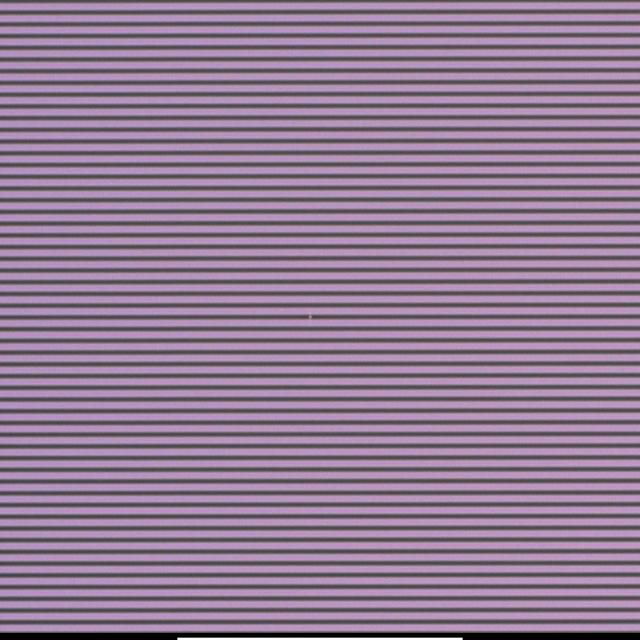03_intrusion: (303, 310, 314, 324)
